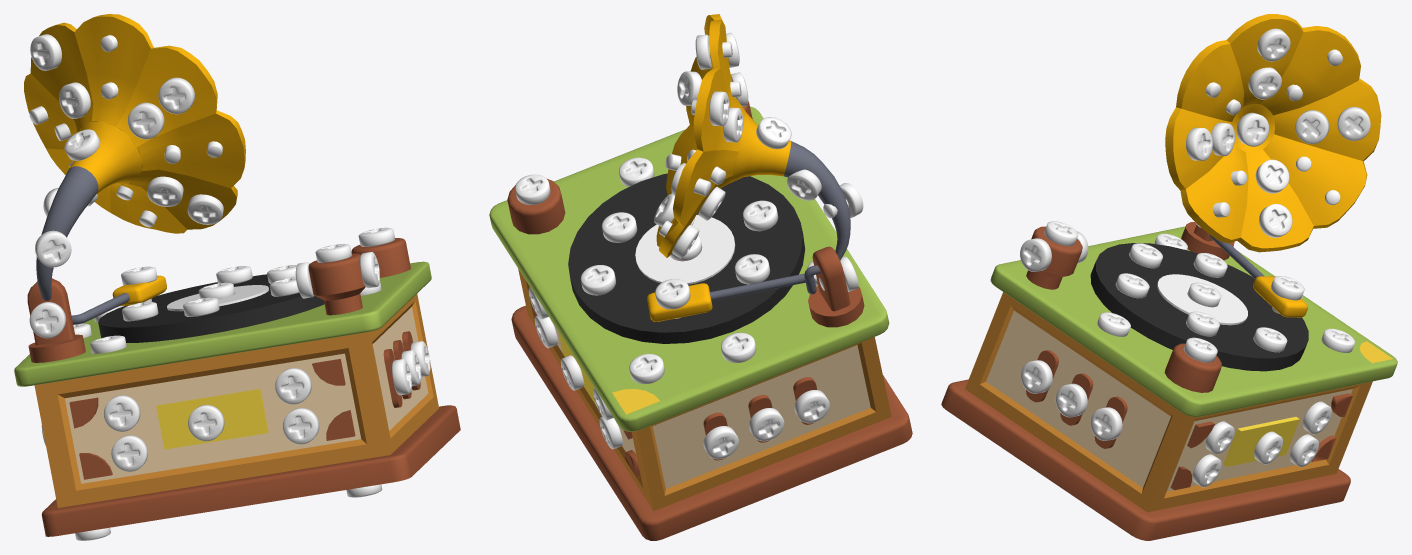
Rendered from VintagePlayer.fbx.
The picture shows the model from 3 angles, left to right: view 1: azimuth 30°, elevation 25°; view 2: azimuth 150°, elevation 25°; view 3: azimuth 270°, elevation 25°; orthographic projection. The views are drawn at different scales.
Parts seen in each view (by area): view 1: VintagePlayer_035, VintagePlayer_036, VintagePlayer_034, VintagePlayer_033, Screw (×9), VintagePlayer_001, VintagePlayer_012, VintagePlayer_014, VintagePlayer_013, Screw (1) (×5), VintagePlayer_007, VintagePlayer_008 (+19 smaller); view 2: VintagePlayer_034, VintagePlayer_001, VintagePlayer_031, VintagePlayer_036, Screw (×9), Screw (1) (×6), VintagePlayer_032, Screw (2) (×3), Screw (4) (×3), VintagePlayer_010, VintagePlayer_008, VintagePlayer_007 (+9 smaller); view 3: VintagePlayer_033, VintagePlayer_034, VintagePlayer_001, VintagePlayer_036, VintagePlayer_030, Screw (×11), Screw (1) (×7), VintagePlayer_009, VintagePlayer_011, VintagePlayer_015, VintagePlayer_010, VintagePlayer_013 (+13 smaller).
Part boxes in pixels (x1=…): VintagePlayer_035: x1=55, y1=335, x2=369, y2=504; VintagePlayer_036: x1=41, y1=405, x2=460, y2=536; VintagePlayer_034: x1=14, y1=261, x2=431, y2=386; VintagePlayer_033: x1=346, y1=294, x2=438, y2=458; Screw (×9): x1=29, y1=82, x2=395, y2=338; VintagePlayer_001: x1=98, y1=274, x2=324, y2=342; VintagePlayer_012: x1=74, y1=14, x2=153, y2=126; VintagePlayer_014: x1=137, y1=110, x2=245, y2=188; VintagePlayer_013: x1=116, y1=45, x2=217, y2=146; Screw (1) (×5): x1=30, y1=34, x2=379, y2=316; VintagePlayer_007: x1=69, y1=121, x2=141, y2=194; VintagePlayer_008: x1=36, y1=166, x2=98, y2=300; VintagePlayer_034: x1=489, y1=106, x2=889, y2=431; VintagePlayer_001: x1=568, y1=173, x2=805, y2=343; VintagePlayer_031: x1=631, y1=337, x2=891, y2=511; VintagePlayer_036: x1=511, y1=305, x2=912, y2=540; Screw (×9): x1=515, y1=107, x2=863, y2=441; Screw (1) (×6): x1=659, y1=34, x2=778, y2=459; VintagePlayer_032: x1=647, y1=265, x2=820, y2=321; Screw (2) (×3): x1=534, y1=265, x2=829, y2=423; Screw (4) (×3): x1=599, y1=254, x2=770, y2=449; VintagePlayer_010: x1=673, y1=149, x2=738, y2=227; VintagePlayer_008: x1=784, y1=141, x2=850, y2=260; VintagePlayer_007: x1=730, y1=112, x2=791, y2=182; VintagePlayer_033: x1=965, y1=292, x2=1195, y2=512; VintagePlayer_034: x1=990, y1=226, x2=1397, y2=416; VintagePlayer_001: x1=1090, y1=243, x2=1308, y2=371; VintagePlayer_036: x1=941, y1=379, x2=1350, y2=540; VintagePlayer_030: x1=1159, y1=384, x2=1360, y2=509; Screw (×11): x1=1044, y1=67, x2=1329, y2=464; Screw (1) (×7): x1=1020, y1=28, x2=1370, y2=454; VintagePlayer_009: x1=1263, y1=134, x2=1367, y2=228; VintagePlayer_011: x1=1260, y1=26, x2=1360, y2=115; VintagePlayer_015: x1=1180, y1=143, x2=1248, y2=243; VintagePlayer_010: x1=1273, y1=78, x2=1381, y2=161; VintagePlayer_013: x1=1176, y1=40, x2=1243, y2=121.
Bounding box in the file's own units: 9.37 × 11.02 × 9.68.
Materials: 3 (2 with a texture image).
